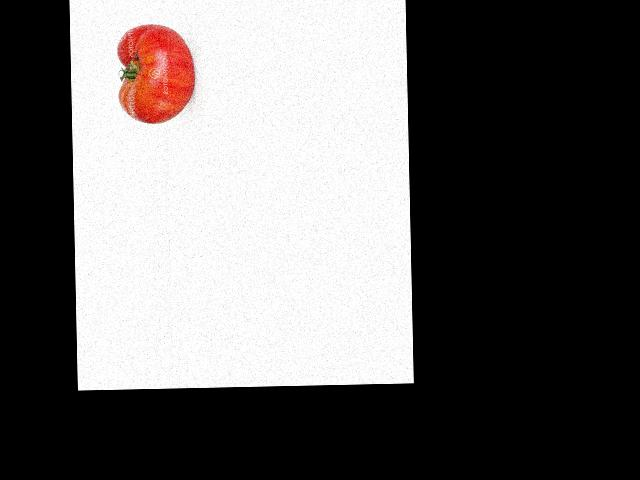tomato: (116, 24, 195, 124)
